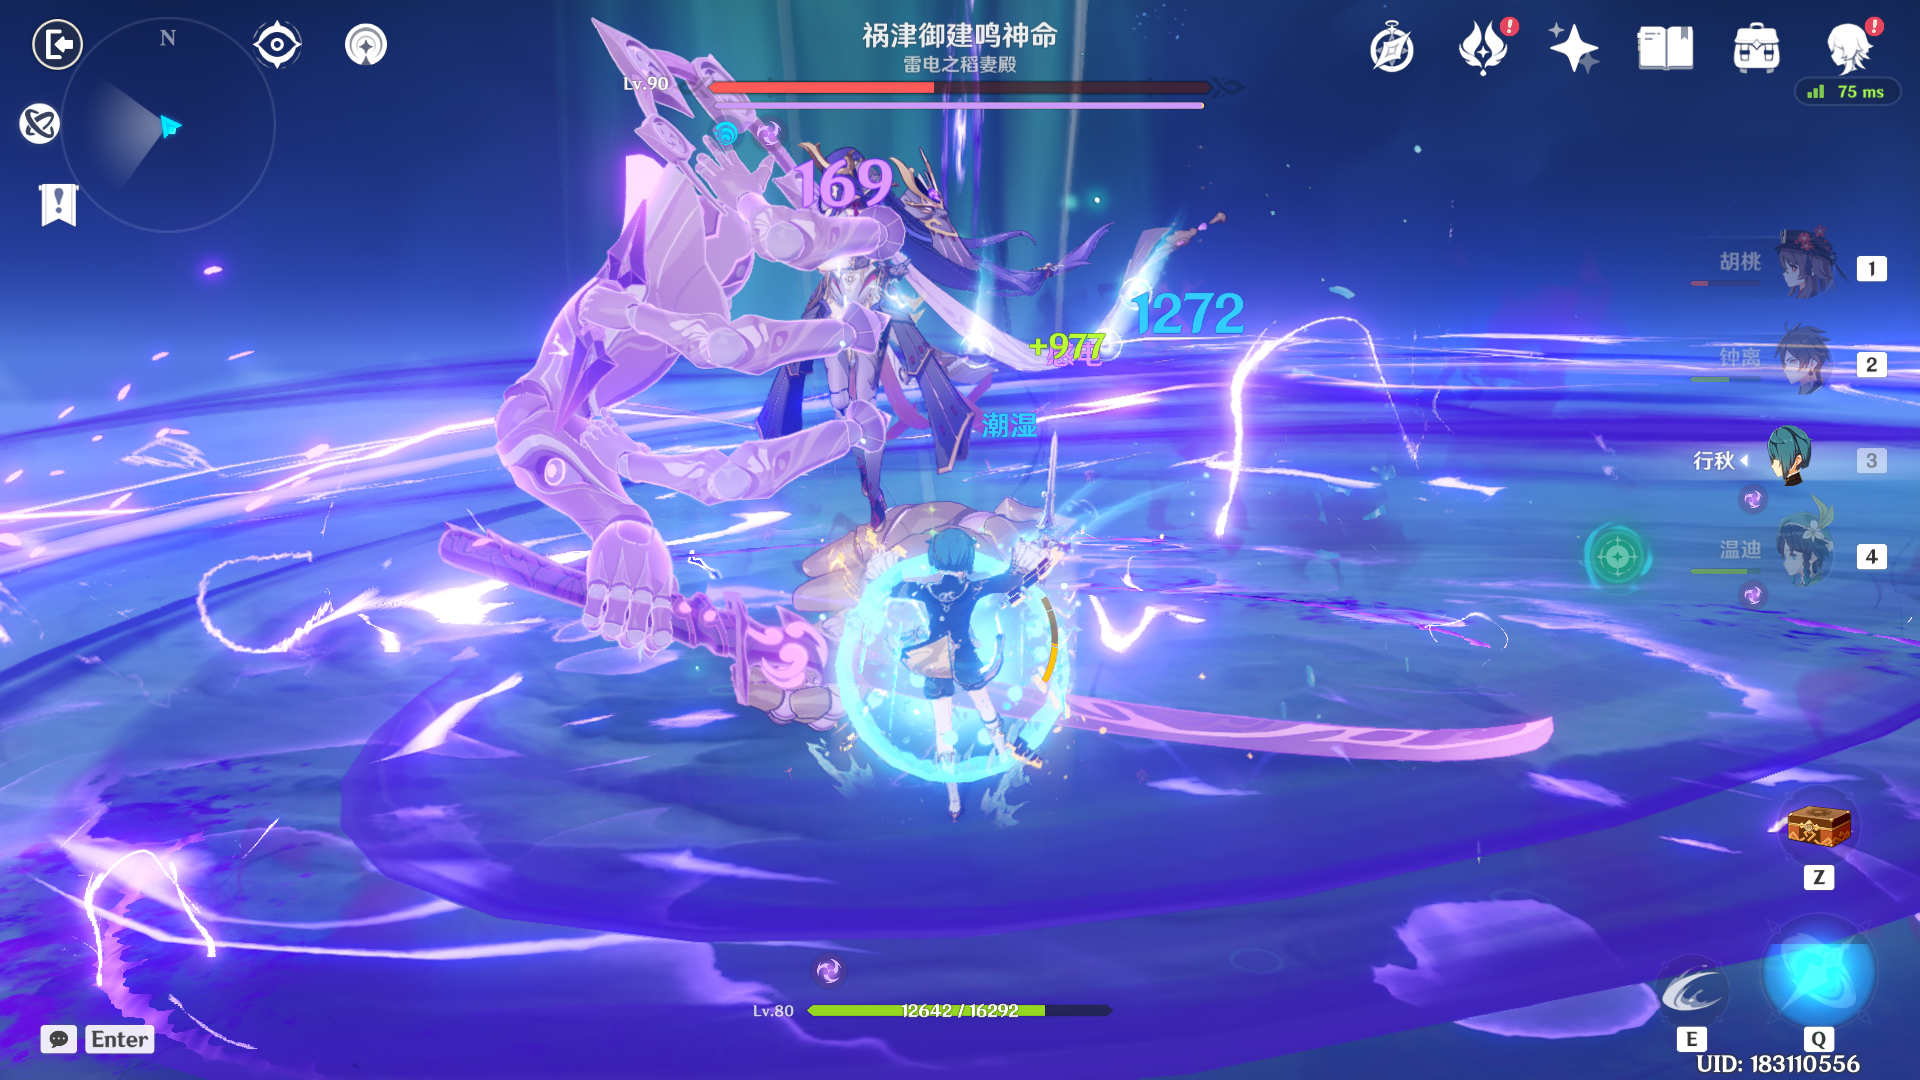character: (843, 469, 1116, 932)
